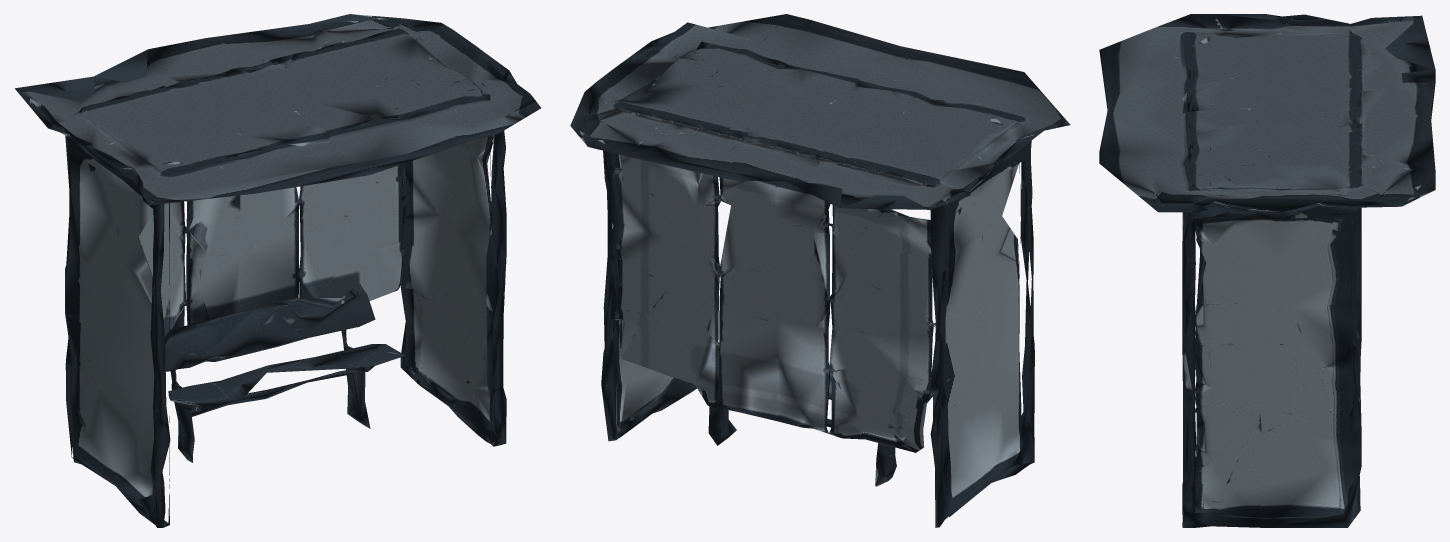
Rendered from bus_shelter.glb.
3 renders of one model, left to right at view 1: azimuth 30°, elevation 25°; view 2: azimuth 150°, elevation 25°; view 3: azimuth 270°, elevation 25°, orthographic. The views are drawn at different scales.
Size of the model in its own units: 1.9 by 1.64 by 1.46.
Materials: 1 (1 with a texture image).
